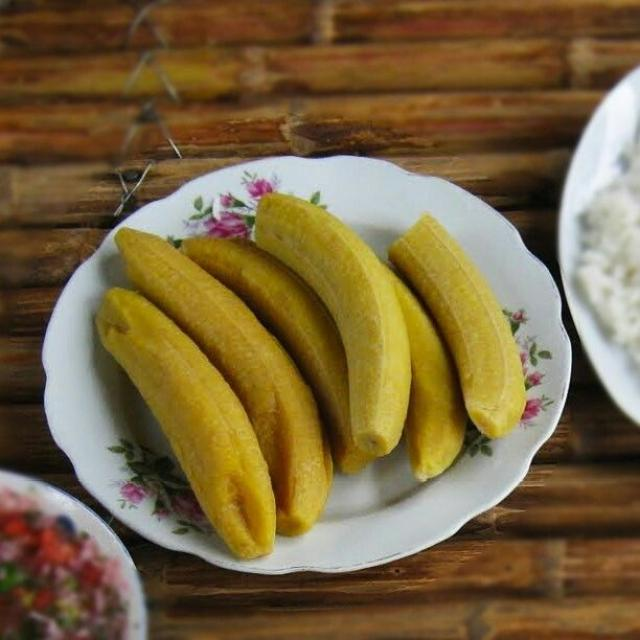platano: (78, 182, 534, 553)
